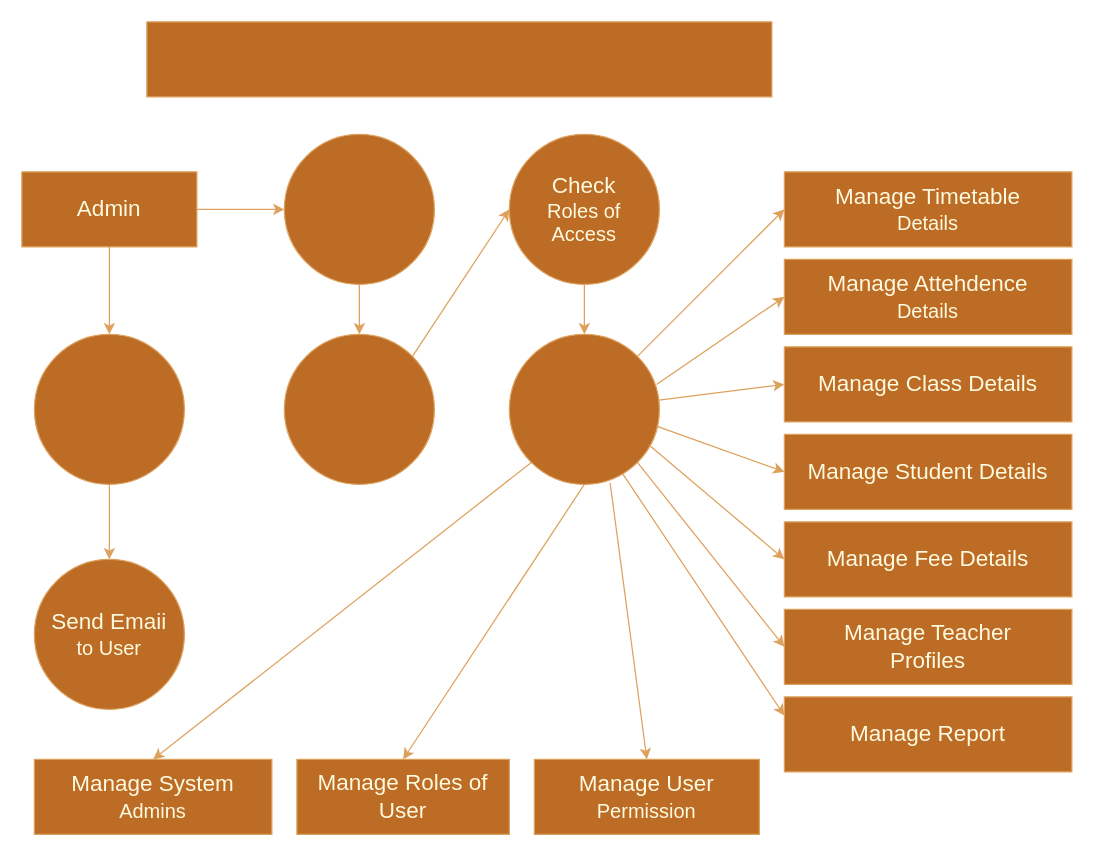
Some shapes in this 1094 by 856 pixel diagram are drawn without their labels. Each missing label, with the box of its shape:
Check Credentials: (283, 333, 434, 484)
Forgot Password: (33, 333, 184, 484)
Login to System: (283, 133, 434, 284)
Manage Modules: (508, 333, 659, 484)
Student Information System: (146, 21, 772, 97)
